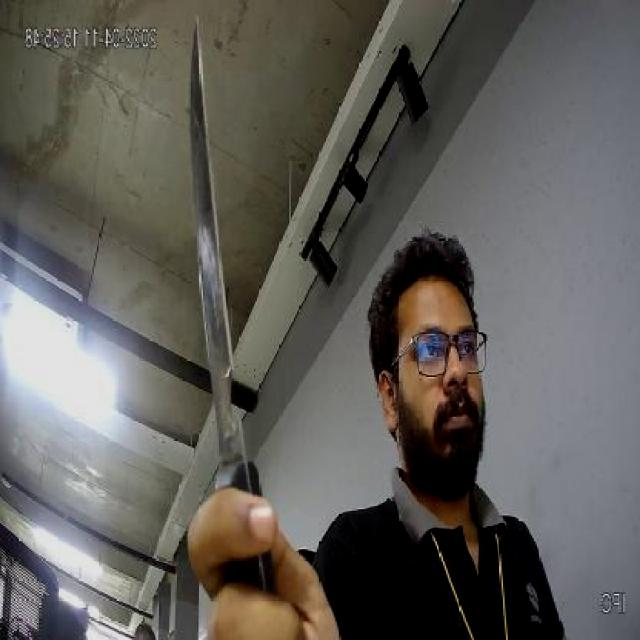knife: (188, 19, 243, 523)
